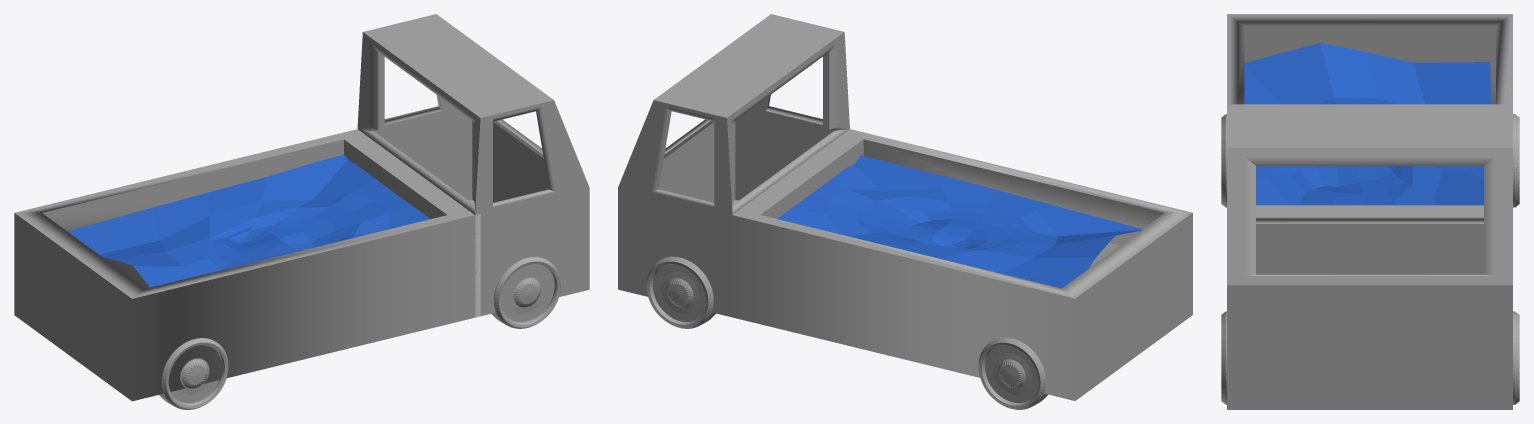
File: Camionetta.fbx
The picture shows the model from 3 angles, left to right: view 1: azimuth 30°, elevation 25°; view 2: azimuth 150°, elevation 25°; view 3: azimuth 270°, elevation 25°; orthographic projection. The views are drawn at different scales.
Visible parts, largest first — view 1: Cube, Cube.001, Cylinder.002, Cylinder; view 2: Cube, Cube.001, Cylinder.001, Cylinder.003; view 3: Cube, Cube.001, Cylinder.003, Cylinder.001, Cylinder.002, Cylinder.
Boxes of the visible parts, x1,y1,x2,y2 form: Cube: (14, 14, 589, 401); Cube.001: (67, 154, 430, 287); Cylinder.002: (159, 338, 228, 409); Cylinder: (491, 257, 560, 328); Cube: (618, 14, 1192, 400); Cube.001: (777, 155, 1141, 288); Cylinder.001: (646, 256, 715, 328); Cylinder.003: (978, 337, 1047, 409); Cube: (1227, 14, 1512, 409); Cube.001: (1244, 43, 1491, 205); Cylinder.003: (1513, 114, 1519, 207); Cylinder.001: (1513, 311, 1519, 404); Cylinder.002: (1221, 114, 1226, 207); Cylinder: (1221, 311, 1226, 404).
Size of the model in its own units: 1332 by 617 by 619.
